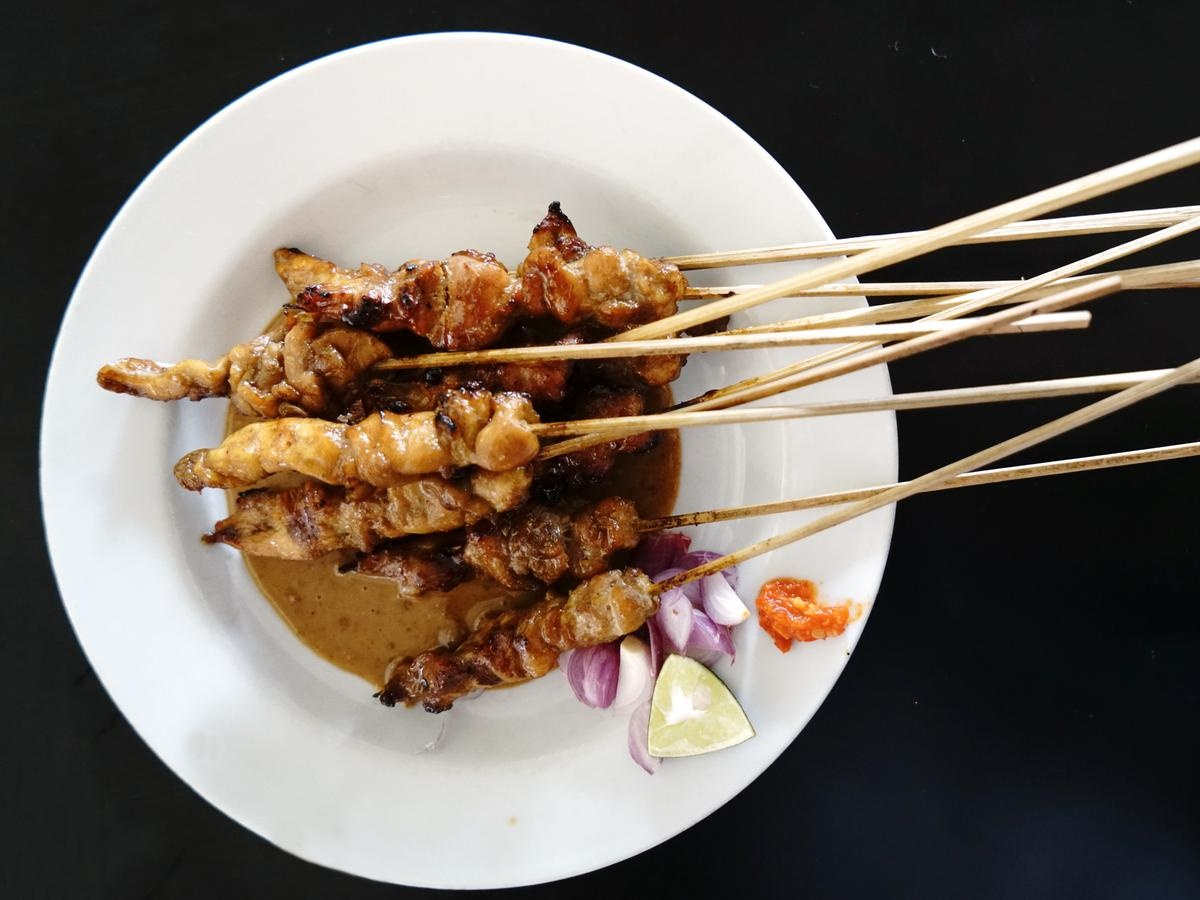sate: (83, 163, 868, 715)
